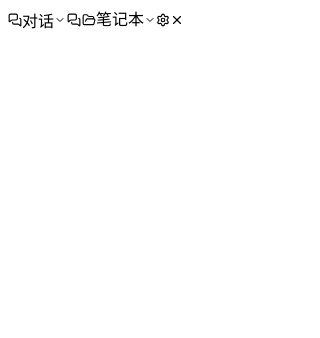
Test: floating bar account › shows a login failure instead of the browser hint
Click the button named "打开设置" at x=163, y=20, box [156,13,170,27]
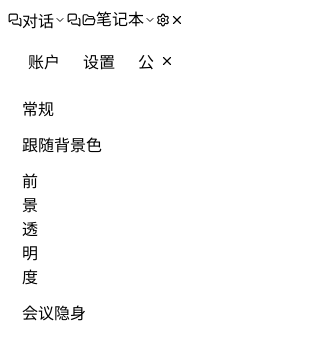
Click the tab "账户" at x=44, y=61, box [18,48,70,74]
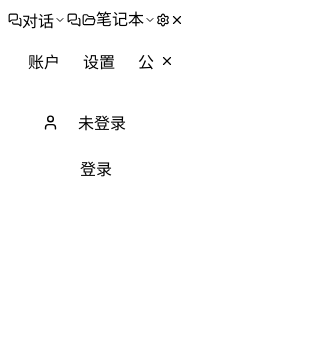
Click the button "登录" at x=96, y=170, box [20,162,172,178]
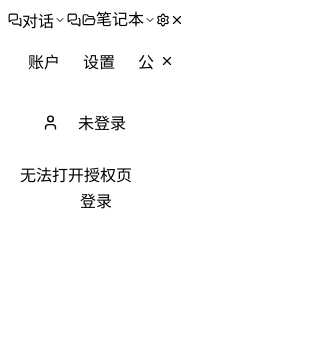
Result: the message reads "无法打开授权页" at [20,167,132,184]
